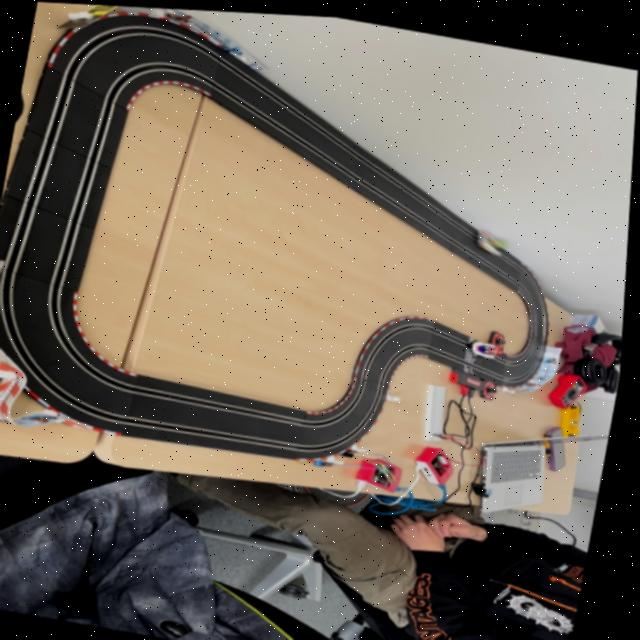mario: (472, 334, 508, 356)
yoshi: (471, 223, 520, 254)
